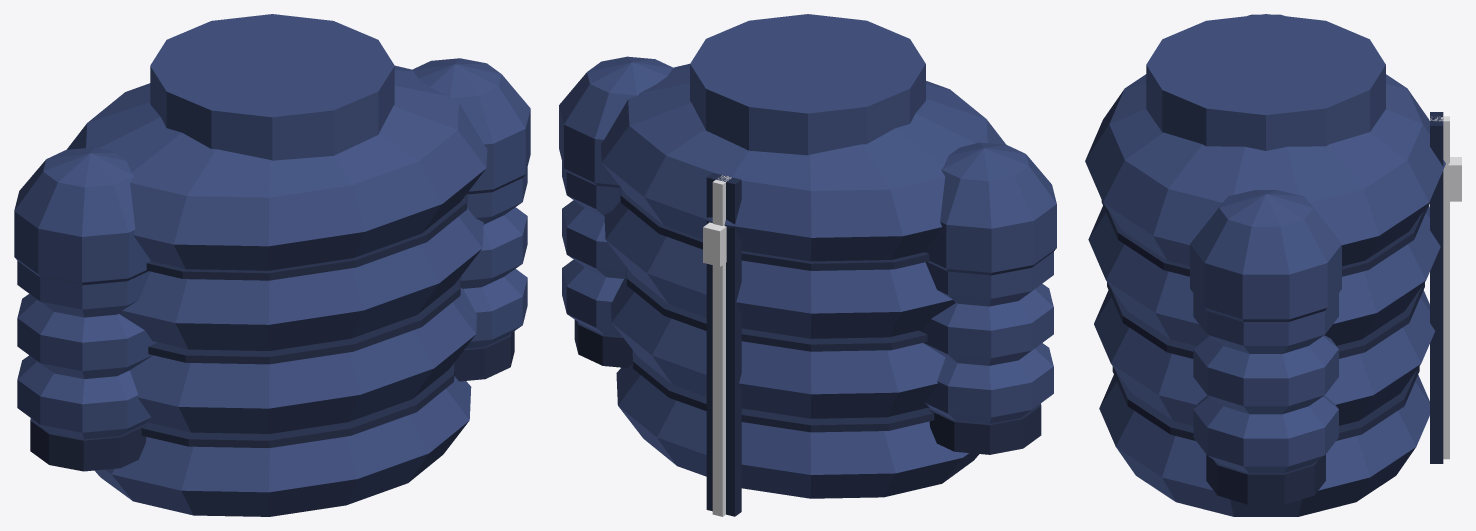
Rendered from jacket_dutik.glb.
3 views of the same model, side by side, from view 1: azimuth 30°, elevation 25°; view 2: azimuth 150°, elevation 25°; view 3: azimuth 270°, elevation 25° (orthographic). The views are drawn at different scales.
Visible parts, largest first — view 1: Torso, ArmL, ArmR; view 2: Torso, ArmL, ArmR; view 3: Torso, ArmR.
Boxes of the visible parts, x1=… form: Torso: x1=66, y1=14, x2=487, y2=516; ArmL: x1=14, y1=147, x2=156, y2=471; ArmR: x1=411, y1=58, x2=530, y2=381; Torso: x1=601, y1=14, x2=1006, y2=516; ArmL: x1=919, y1=142, x2=1056, y2=454; ArmR: x1=559, y1=56, x2=674, y2=368; Torso: x1=1085, y1=14, x2=1461, y2=516; ArmR: x1=1190, y1=190, x2=1341, y2=504.
Size of the model in its own units: 0.8371 by 0.6828 by 0.5662.
